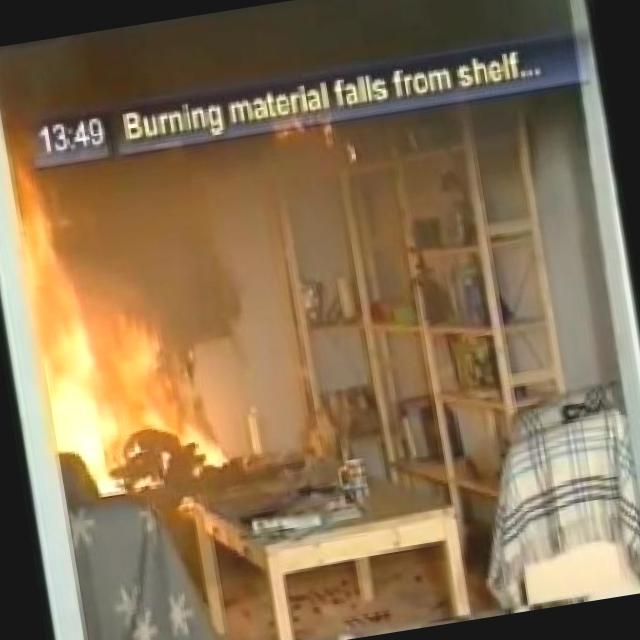fire: (12, 163, 187, 452)
